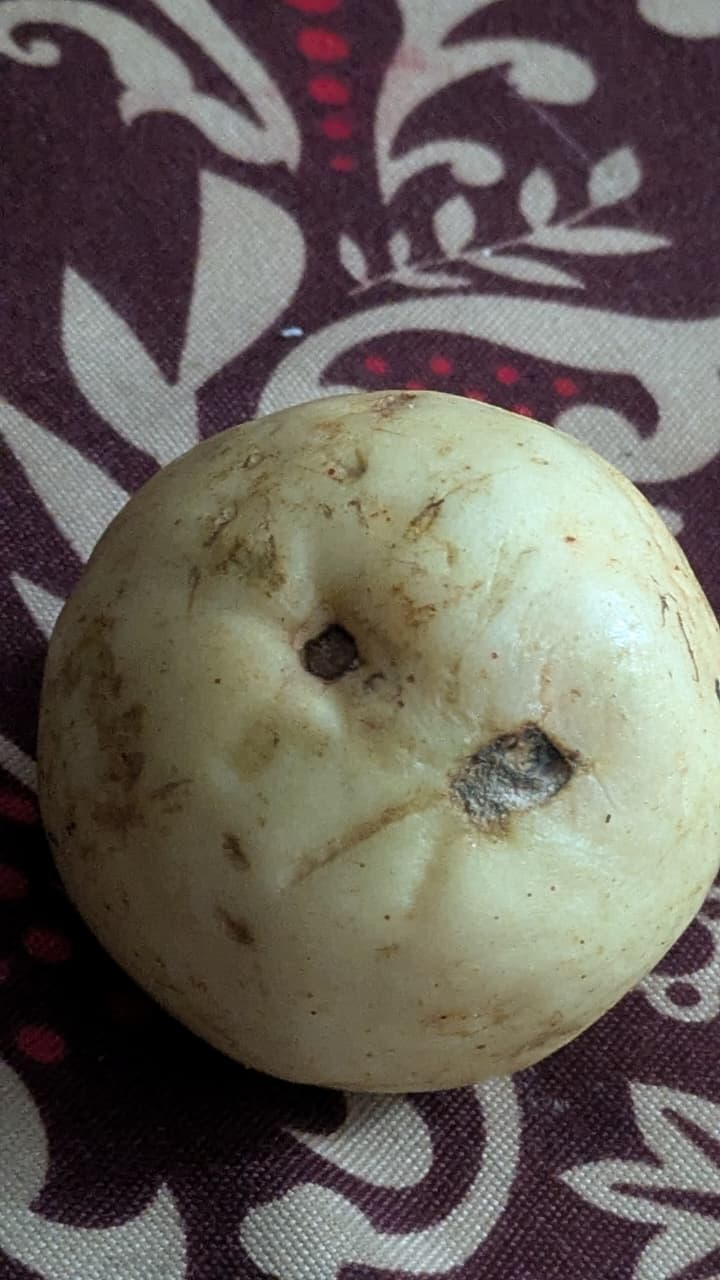guava: (147, 119, 679, 955)
